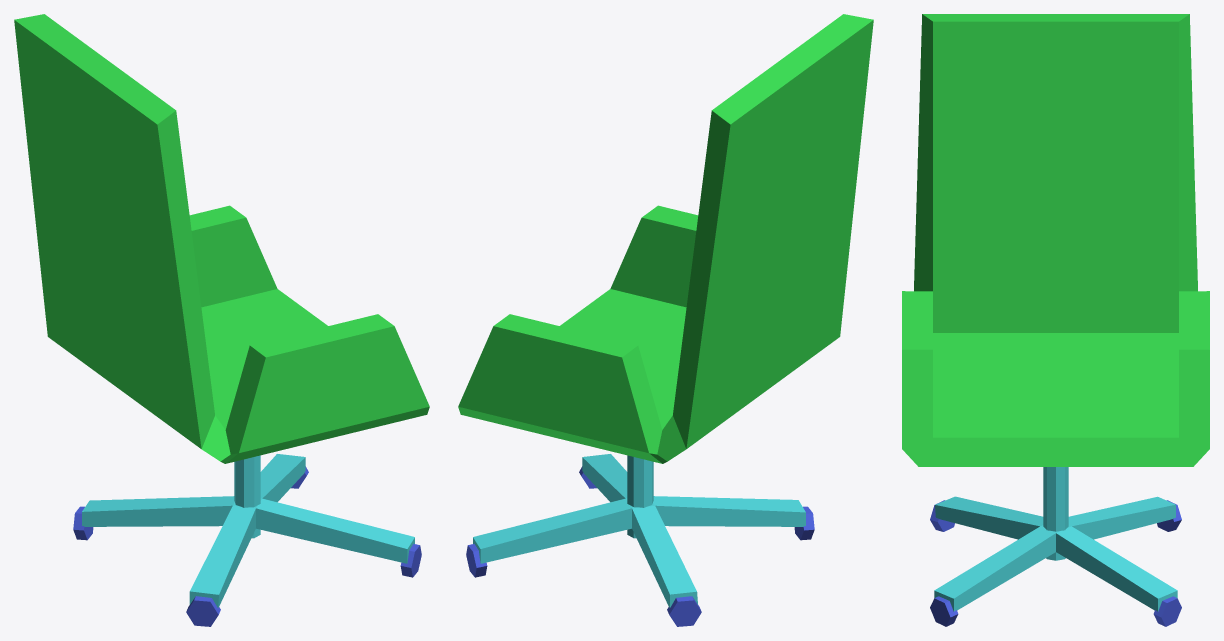
The model's file is stool.fbx.
The picture shows the model from 3 angles, left to right: view 1: azimuth 30°, elevation 25°; view 2: azimuth 150°, elevation 25°; view 3: azimuth 270°, elevation 25°; orthographic projection. The views are drawn at different scales.
Parts seen in each view (by area): view 1: chair_wheel; view 2: chair_wheel; view 3: chair_wheel.
Boxes of the visible parts, bbox=[...] form: chair_wheel: bbox=[14, 14, 429, 626]; chair_wheel: bbox=[458, 14, 873, 626]; chair_wheel: bbox=[902, 14, 1209, 626].
Size of the model in its own units: 196 by 353 by 200.
